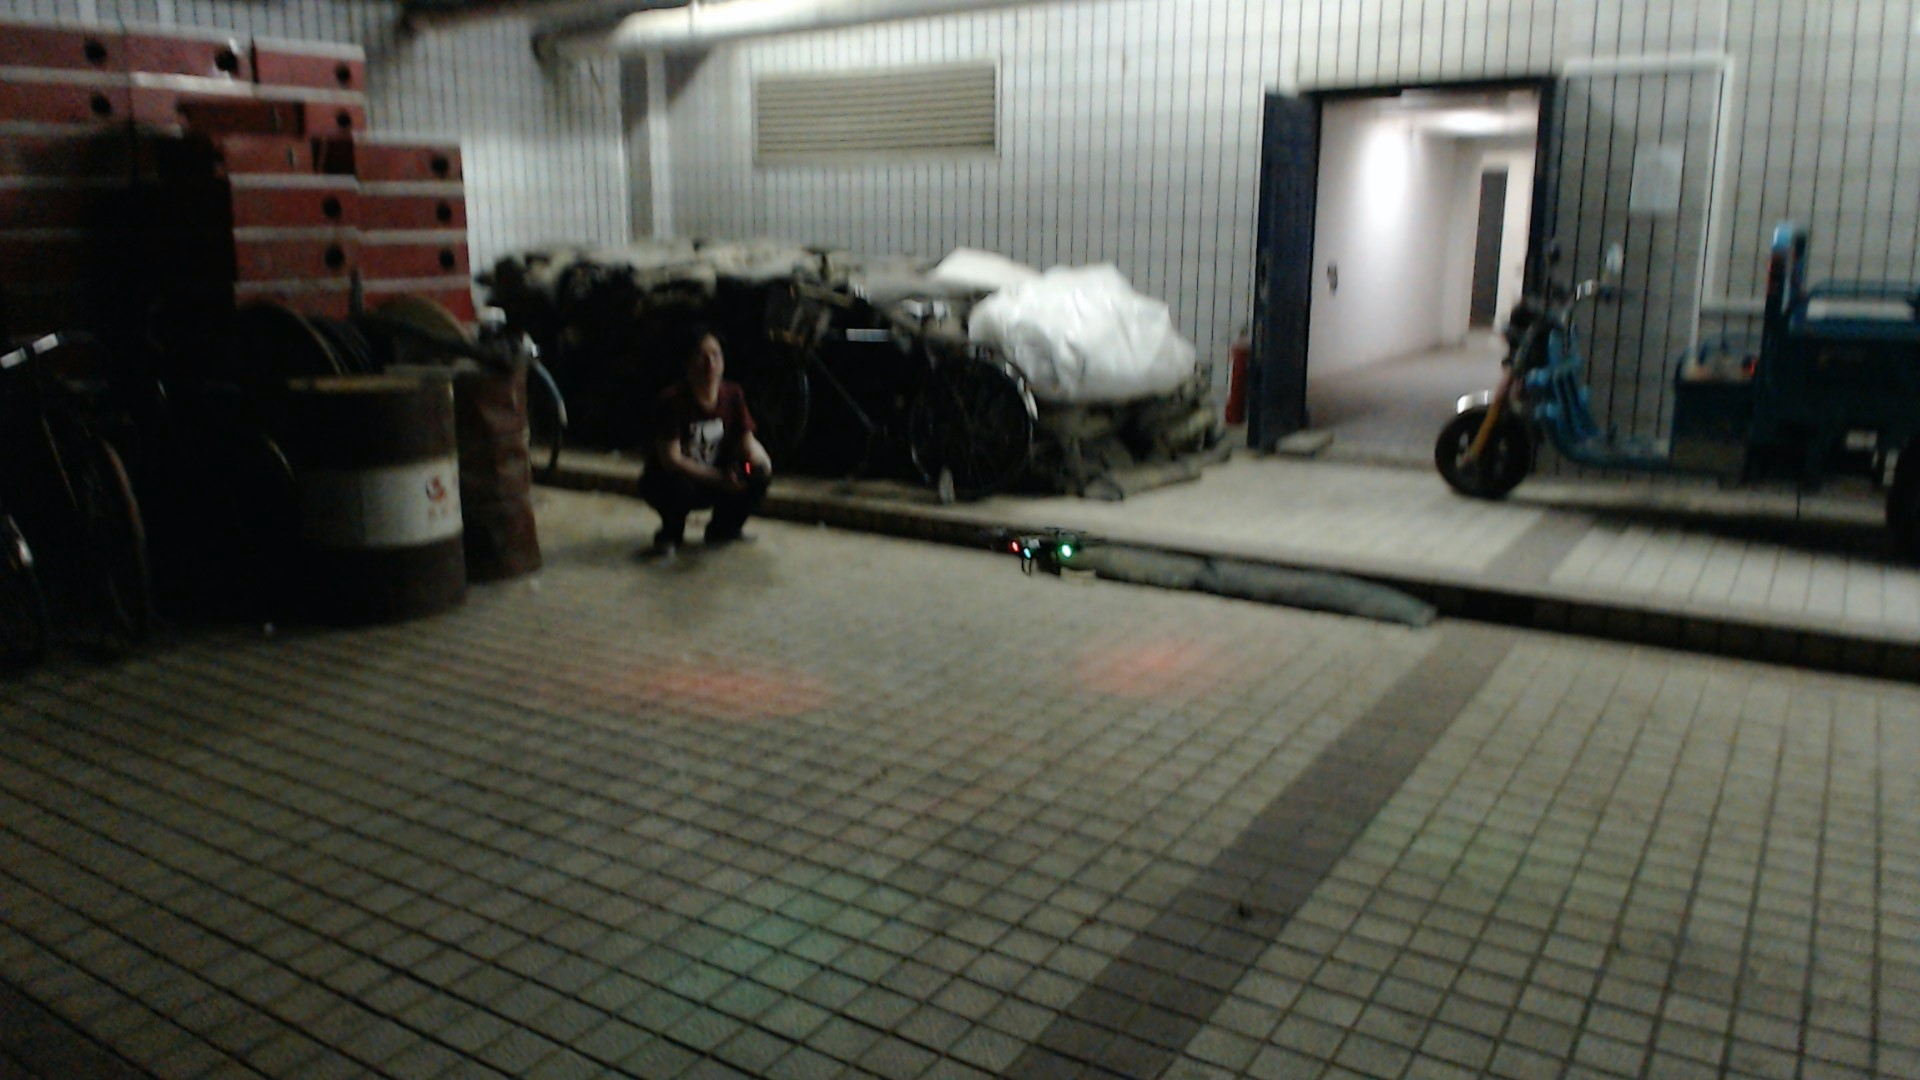human: (633, 321, 777, 570)
test_drone: (992, 516, 1104, 584)
